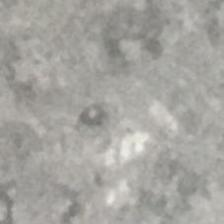Non_Crack: (4, 5, 224, 224)
